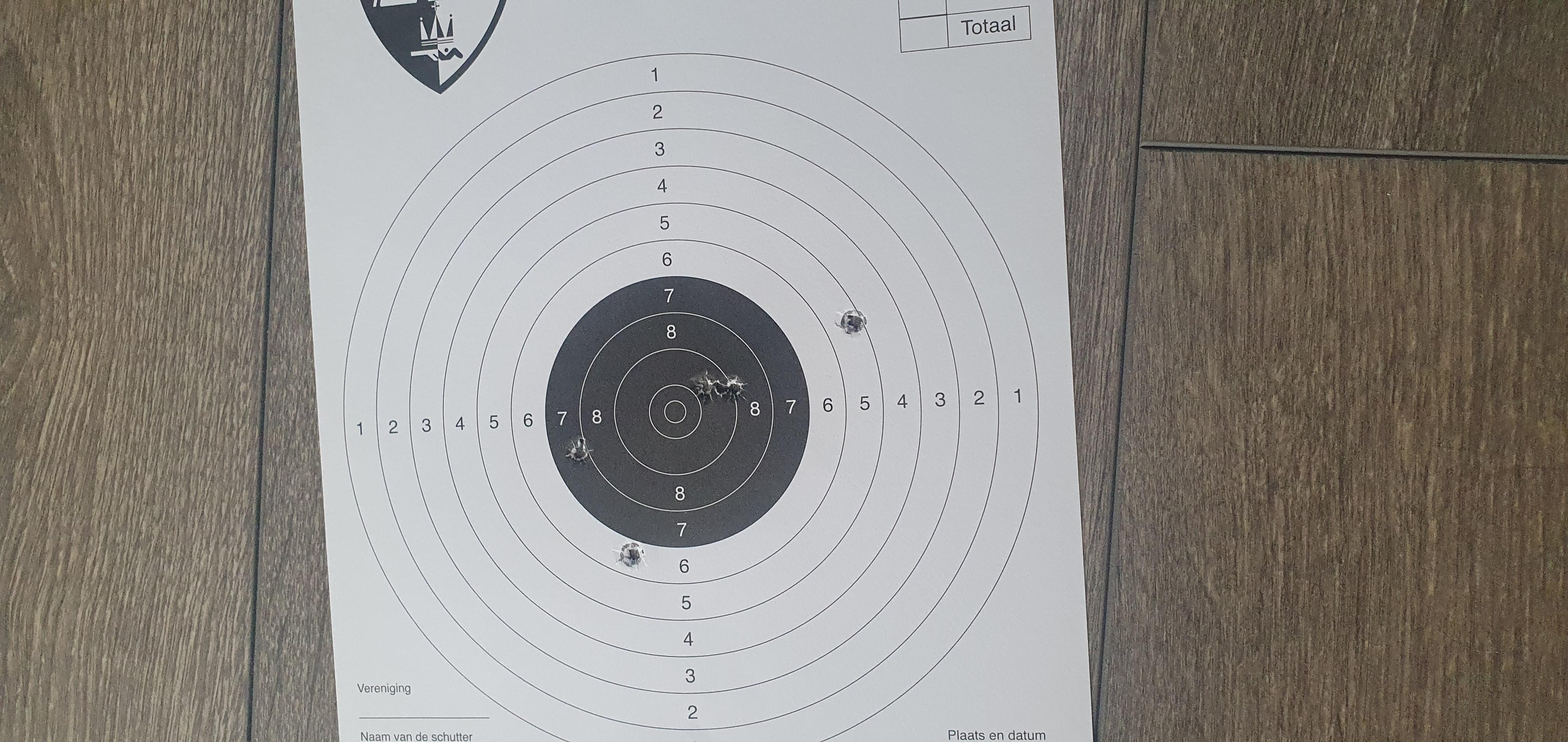hole: (355, 290, 427, 306), (855, 396, 920, 411), (584, 267, 647, 281), (719, 328, 783, 340), (719, 343, 776, 354)
